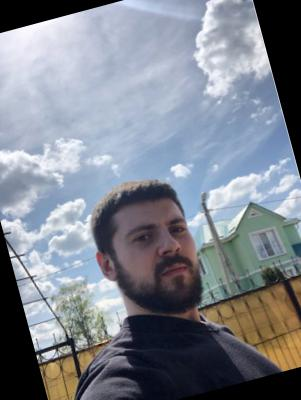without_mask: (117, 205, 213, 325)
